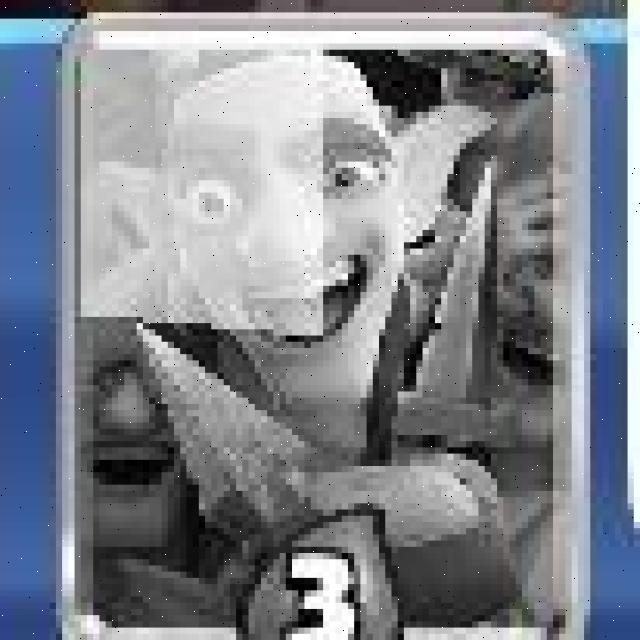Goblin_Gang: (61, 10, 590, 640)
